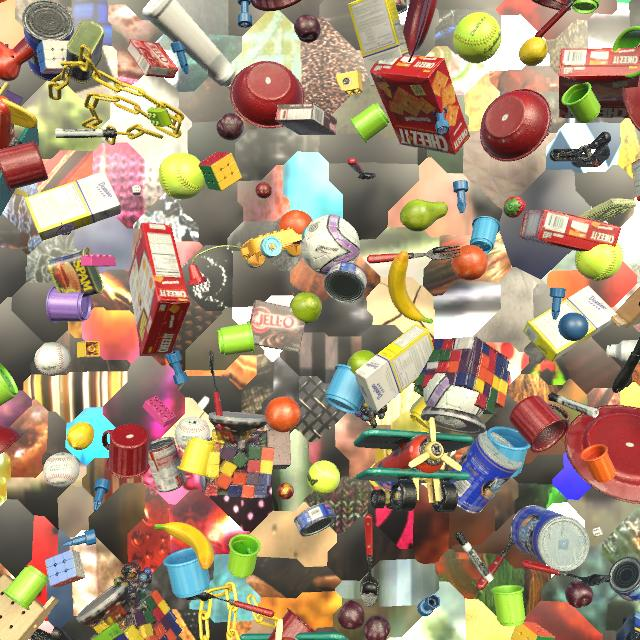ycb_002_master_chef_can: (450, 431, 522, 514), (510, 505, 590, 572), (22, 0, 74, 81)
ycb_003_cracker_box: (370, 55, 470, 155), (128, 222, 190, 354), (559, 48, 640, 118), (520, 209, 621, 252)
ycb_004_sugar_box: (523, 286, 617, 362), (355, 324, 434, 412), (24, 171, 121, 241), (347, 0, 409, 86)
ycb_005_tomato_soup_can: (148, 437, 186, 493), (395, 0, 407, 14)
ycb_007_tuna_fish_can: (324, 262, 367, 303), (294, 502, 336, 536), (609, 557, 640, 601), (376, 462, 401, 491)
ycb_008_pudding_box: (250, 300, 305, 352), (275, 103, 337, 135)
ycb_009_gelatin_box: (127, 39, 178, 79), (631, 159, 640, 201)
ycb_010_potted_meat_can: (47, 247, 104, 297), (65, 20, 104, 83)
ycb_011_banana: (388, 251, 433, 324), (154, 522, 214, 570)
ycb_012_strawberry: (503, 196, 526, 218)
ycb_014_lemon: (519, 37, 548, 66), (67, 422, 94, 450)
ycb_016_pear: (400, 199, 448, 232), (290, 292, 322, 324), (347, 350, 375, 375)
ycb_017_orange: (452, 245, 487, 281), (265, 397, 301, 432), (279, 210, 313, 244)
ycb_018_plum: (337, 600, 365, 630), (294, 14, 321, 43), (216, 113, 244, 140), (565, 581, 593, 608), (364, 615, 390, 640)
